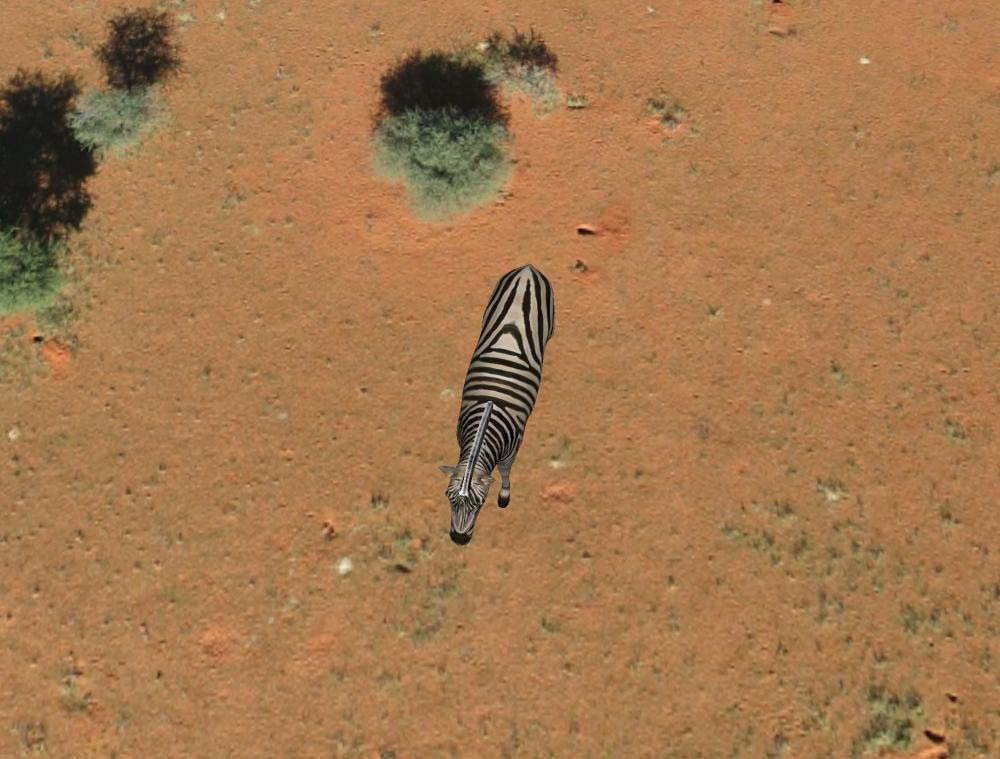zebra: (444, 262, 563, 554)
